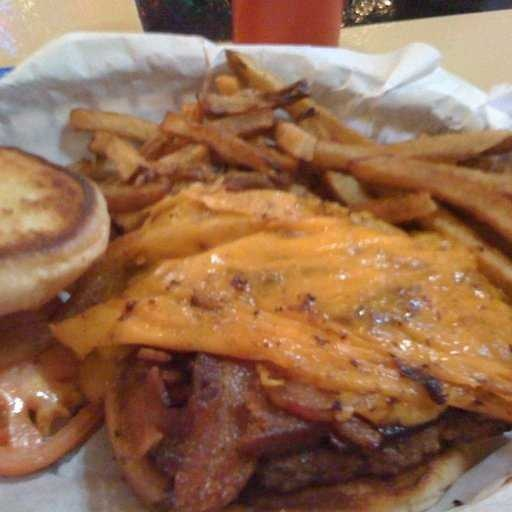hamburger: (7, 179, 506, 496)
